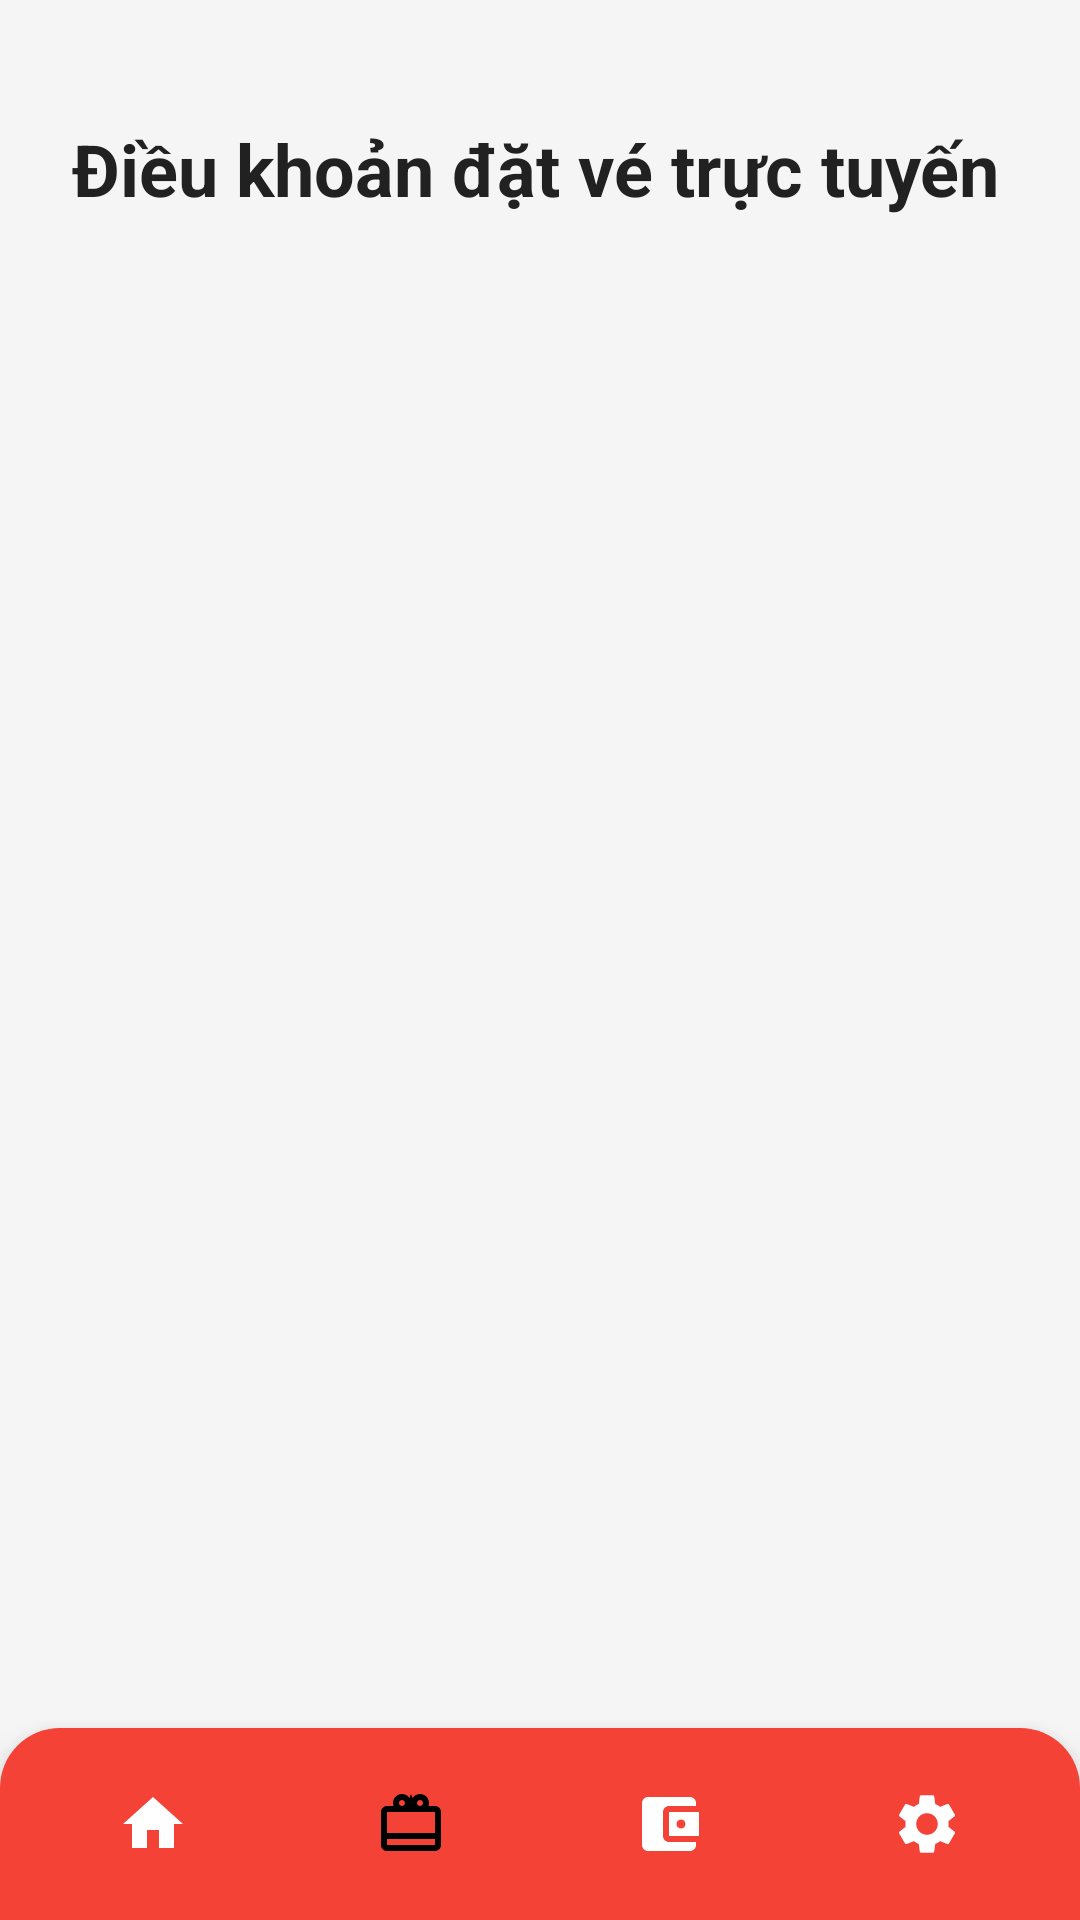

Locate icon controls on the screen. Image size 1080x1920, boxes as {"x1": x1, "y1": y1, "x2": x2, "y2": y2}.
Home: {"x1": 123, "y1": 1797, "x2": 183, "y2": 1848}
Settings: {"x1": 899, "y1": 1795, "x2": 955, "y2": 1853}
Wallet: {"x1": 642, "y1": 1797, "x2": 699, "y2": 1851}
